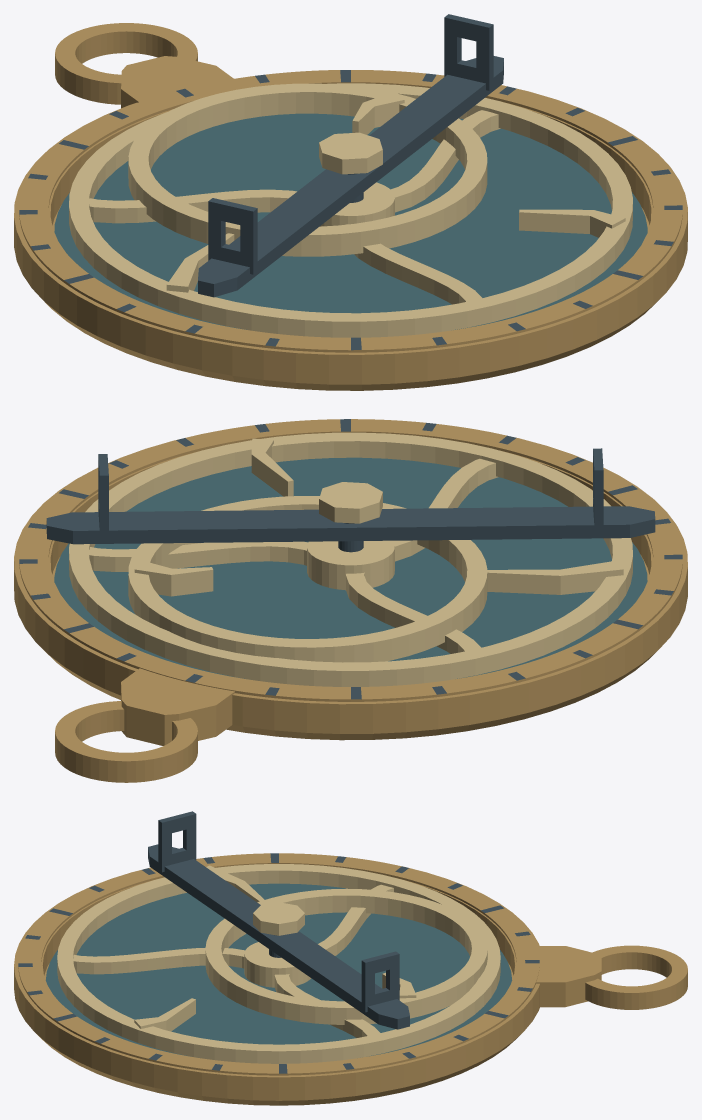
3 renders of one model, top to bottom at view 1: azimuth 30°, elevation 25°; view 2: azimuth 150°, elevation 25°; view 3: azimuth 270°, elevation 25°, orthographic. The views are drawn at different scales.
Visible parts, largest first — view 1: WholeRecessedOpaqueBackPlate, WholeGroundedMotherPan, WholeIllustrativeFaceMarkedLimb, WholeCarrierOuterOpenRing, WholeEccentricOpenCarrierCircle, WholeTwoEndedRaisedSightingRule, WholeOpenHangingRing, WholeTopSuspensionThrone, WholeCurvedCarrierBranch2, WholeCurvedCarrierBranch3, FarWholePiercedRuleVane, NearWholePiercedRuleVane (+6 smaller); view 2: WholeRecessedOpaqueBackPlate, WholeCarrierOuterOpenRing, WholeIllustrativeFaceMarkedLimb, WholeGroundedMotherPan, WholeTwoEndedRaisedSightingRule, WholeEccentricOpenCarrierCircle, WholeOpenHangingRing, WholeTopSuspensionThrone, WholeCurvedCarrierBranch1, WholeCarrierCentralBoredHub, WholeBluntStarPointerTongue2, WholeCurvedCarrierBranch2 (+6 smaller); view 3: WholeRecessedOpaqueBackPlate, WholeGroundedMotherPan, WholeCarrierOuterOpenRing, WholeIllustrativeFaceMarkedLimb, WholeEccentricOpenCarrierCircle, WholeTwoEndedRaisedSightingRule, WholeOpenHangingRing, WholeTopSuspensionThrone, WholeCurvedCarrierBranch3, FarWholePiercedRuleVane, NearWholePiercedRuleVane, WholeCarrierCentralBoredHub (+5 smaller).
Boxes of the visible parts, bbox=[...] form: WholeRecessedOpaqueBackPlate: bbox=[54, 113, 647, 329]; WholeGroundedMotherPan: bbox=[14, 90, 687, 390]; WholeIllustrativeFaceMarkedLimb: bbox=[19, 70, 682, 352]; WholeCarrierOuterOpenRing: bbox=[69, 83, 632, 337]; WholeEccentricOpenCarrierCircle: bbox=[128, 83, 487, 256]; WholeTwoEndedRaisedSightingRule: bbox=[198, 56, 503, 297]; WholeOpenHangingRing: bbox=[55, 23, 197, 104]; WholeTopSuspensionThrone: bbox=[121, 56, 233, 108]; WholeCurvedCarrierBranch2: bbox=[89, 189, 296, 223]; WholeCurvedCarrierBranch3: bbox=[346, 224, 482, 304]; FarWholePiercedRuleVane: bbox=[444, 14, 493, 90]; NearWholePiercedRuleVane: bbox=[208, 198, 257, 274]; WholeRecessedOpaqueBackPlate: bbox=[54, 457, 647, 679]; WholeCarrierOuterOpenRing: bbox=[69, 432, 632, 686]; WholeIllustrativeFaceMarkedLimb: bbox=[19, 419, 682, 701]; WholeGroundedMotherPan: bbox=[14, 434, 687, 740]; WholeTwoEndedRaisedSightingRule: bbox=[46, 506, 655, 544]; WholeEccentricOpenCarrierCircle: bbox=[128, 496, 487, 662]; WholeOpenHangingRing: bbox=[55, 701, 197, 782]; WholeTopSuspensionThrone: bbox=[121, 668, 234, 745]; WholeCurvedCarrierBranch1: bbox=[89, 541, 308, 571]; WholeCarrierCentralBoredHub: bbox=[307, 540, 394, 590]; WholeBluntStarPointerTongue2: bbox=[487, 560, 623, 594]; WholeCurvedCarrierBranch2: bbox=[345, 572, 480, 653]; WholeRecessedOpaqueBackPlate: bbox=[45, 883, 512, 1056]; WholeGroundedMotherPan: bbox=[14, 866, 539, 1105]; WholeCarrierOuterOpenRing: bbox=[57, 864, 500, 1063]; WholeIllustrativeFaceMarkedLimb: bbox=[18, 853, 539, 1075]; WholeEccentricOpenCarrierCircle: bbox=[205, 888, 487, 1024]; WholeTwoEndedRaisedSightingRule: bbox=[148, 844, 409, 1029]; WholeOpenHangingRing: bbox=[585, 945, 687, 1009]; WholeTopSuspensionThrone: bbox=[536, 946, 601, 1007]; WholeCurvedCarrierBranch3: bbox=[73, 947, 244, 974]; FarWholePiercedRuleVane: bbox=[361, 951, 399, 1012]; NearWholePiercedRuleVane: bbox=[158, 811, 196, 872]; WholeCarrierCentralBoredHub: bbox=[244, 942, 311, 987].
Size of the model in its own units: 0.368 by 0.09 by 0.468.
